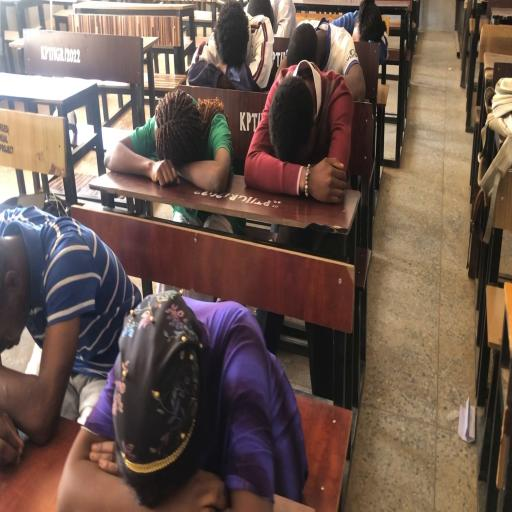Sleeping: (16, 181, 337, 506), (56, 288, 310, 507), (0, 195, 138, 469), (94, 0, 249, 196), (123, 83, 271, 220), (244, 39, 355, 209), (105, 84, 234, 196), (0, 72, 106, 200), (186, 0, 257, 90)
